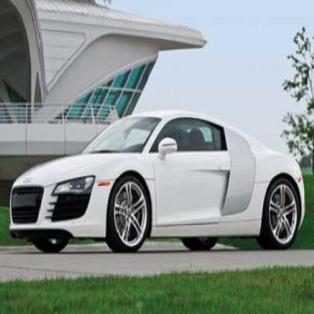Auto: (7, 109, 306, 254)
